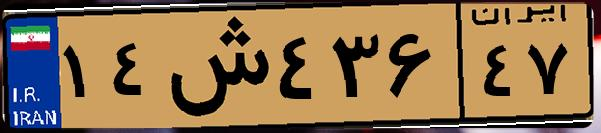1: (57, 26, 110, 100)
3: (330, 28, 385, 110)
4: (270, 28, 330, 110), (475, 38, 525, 113), (110, 28, 158, 98)
6: (385, 28, 445, 110)
7: (525, 38, 570, 115)
ش: (158, 12, 270, 120)
